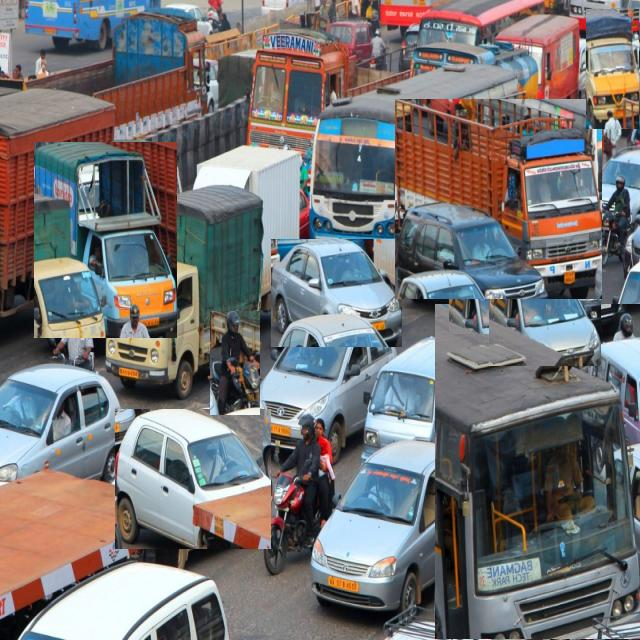bus: (435, 304, 640, 639), (310, 66, 520, 259)
car: (310, 440, 445, 611), (115, 409, 271, 549), (251, 315, 396, 462), (450, 203, 598, 334), (361, 338, 484, 461), (0, 364, 124, 485), (271, 240, 402, 347), (489, 270, 601, 366)
motorcycle: (264, 414, 335, 573), (210, 312, 260, 415), (600, 176, 634, 266)
truck: (395, 100, 602, 299), (105, 186, 264, 398), (35, 143, 177, 338), (29, 11, 208, 140), (246, 30, 410, 158), (586, 10, 640, 129)
